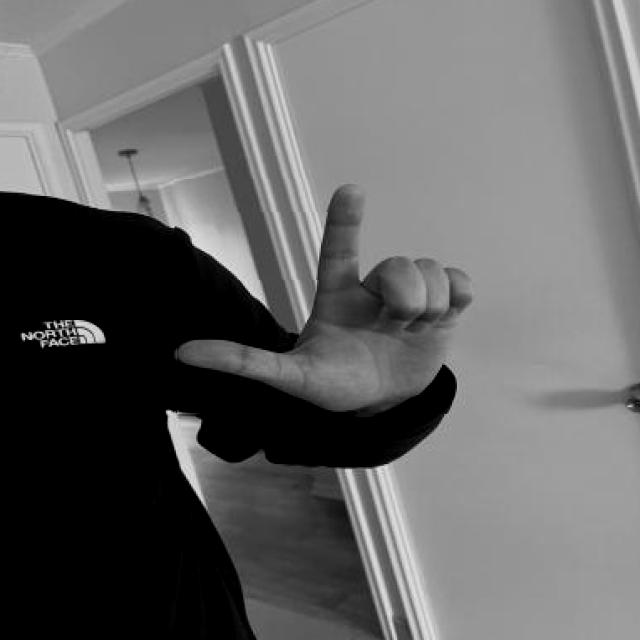L: (175, 180, 472, 416)
